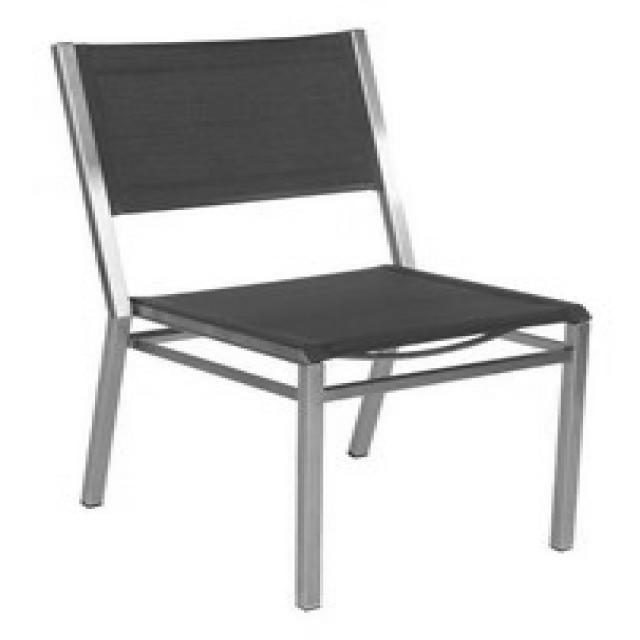chair: (47, 29, 591, 609)
